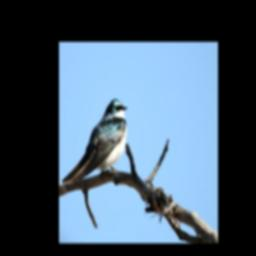Swallow: (62, 97, 129, 185)
